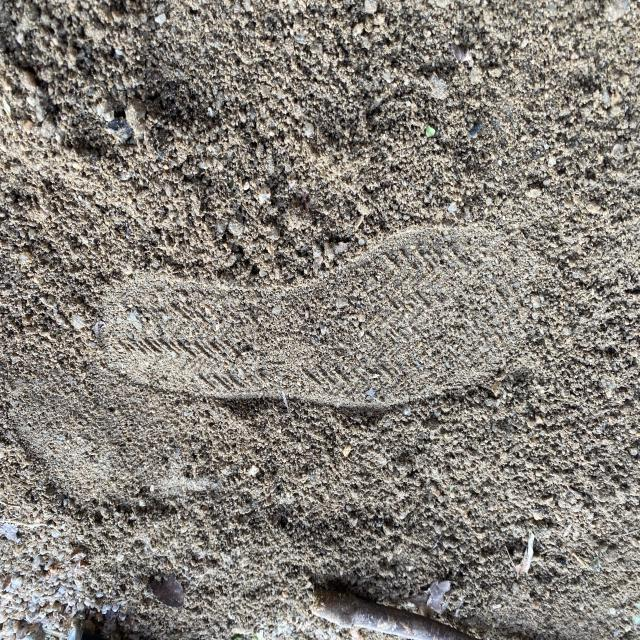human_foot_print: (76, 163, 572, 480)
